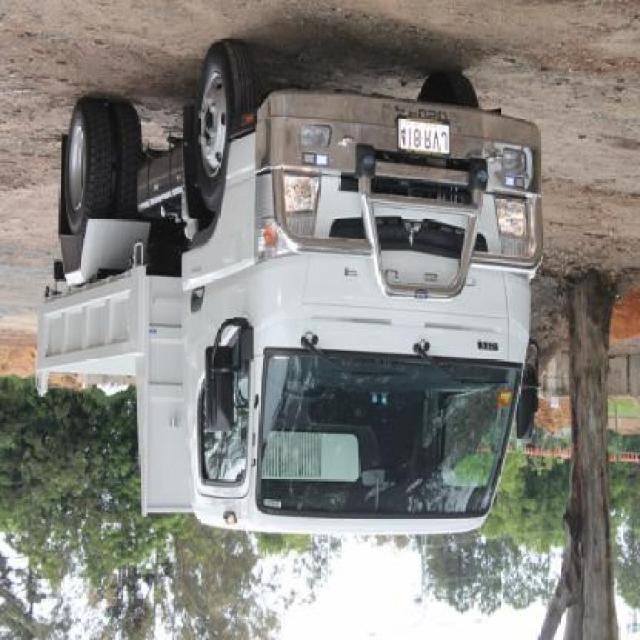truck: (35, 43, 546, 542)
